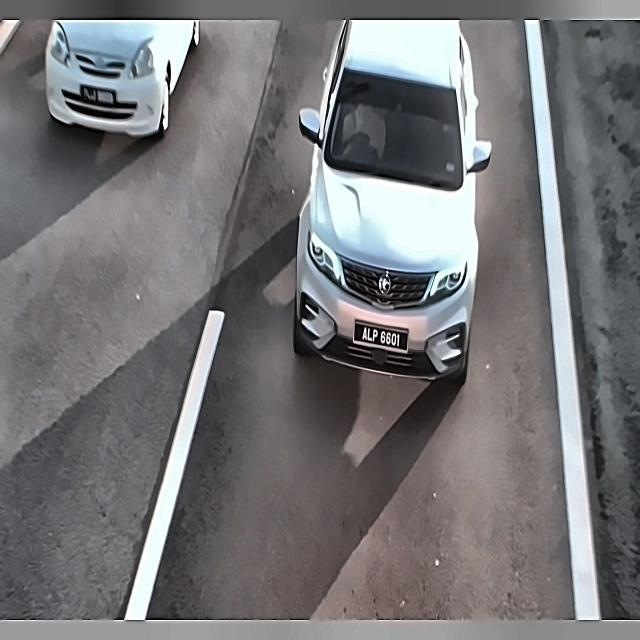car: (352, 306, 415, 363), (74, 80, 123, 115)
